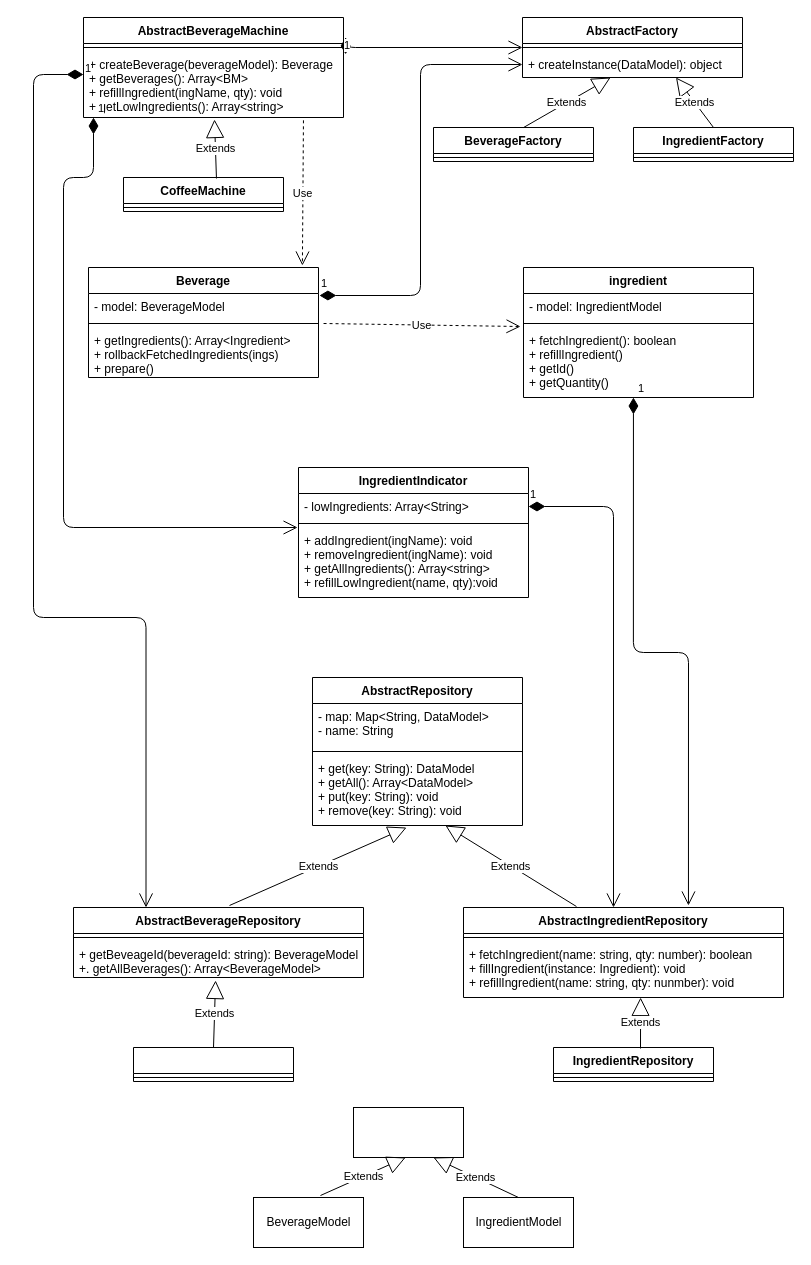
Some shapes in this 811 by 1265 pixel diagram are drawn without their labels. Each missing label, with the centre of its shape:
BeverageRepository: the point at 213,1064
DataModel: the point at 408,1132
